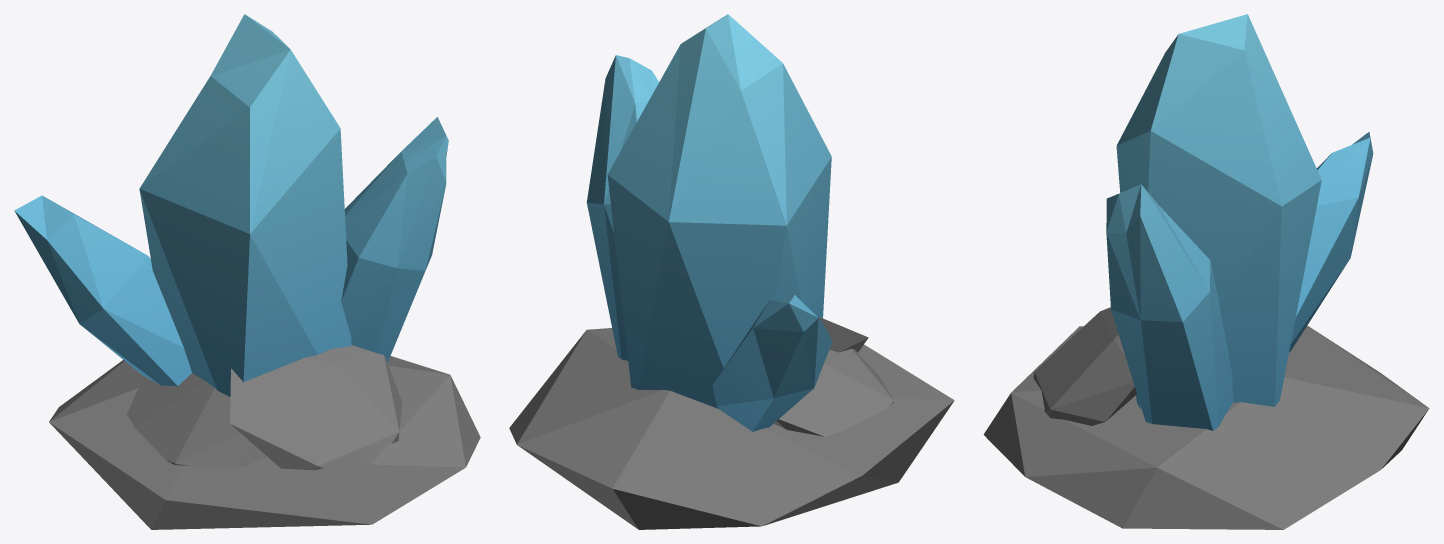
The model's file is Crystal_03.fbx.
The picture shows the model from 3 angles, left to right: view 1: azimuth 30°, elevation 25°; view 2: azimuth 150°, elevation 25°; view 3: azimuth 270°, elevation 25°; orthographic projection.
Visible parts, largest first — view 1: Crystal_03; view 2: Crystal_03; view 3: Crystal_03.
Boxes of the visible parts, box(x1,y1,x2,y2) form: Crystal_03: box(14, 14, 480, 529); Crystal_03: box(509, 14, 954, 529); Crystal_03: box(983, 14, 1429, 529).
Bounding box in the file's own units: 0.5419 × 0.6603 × 0.5883.
